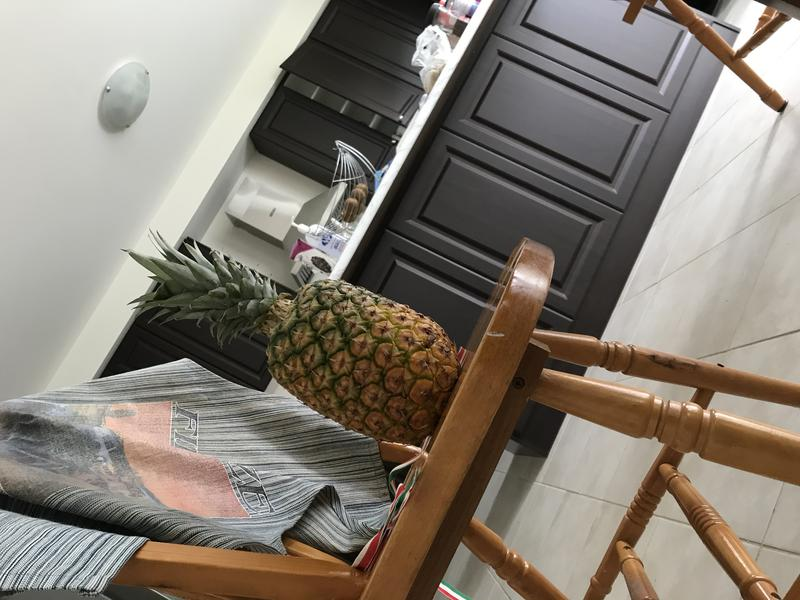pineapple: (122, 216, 481, 459)
